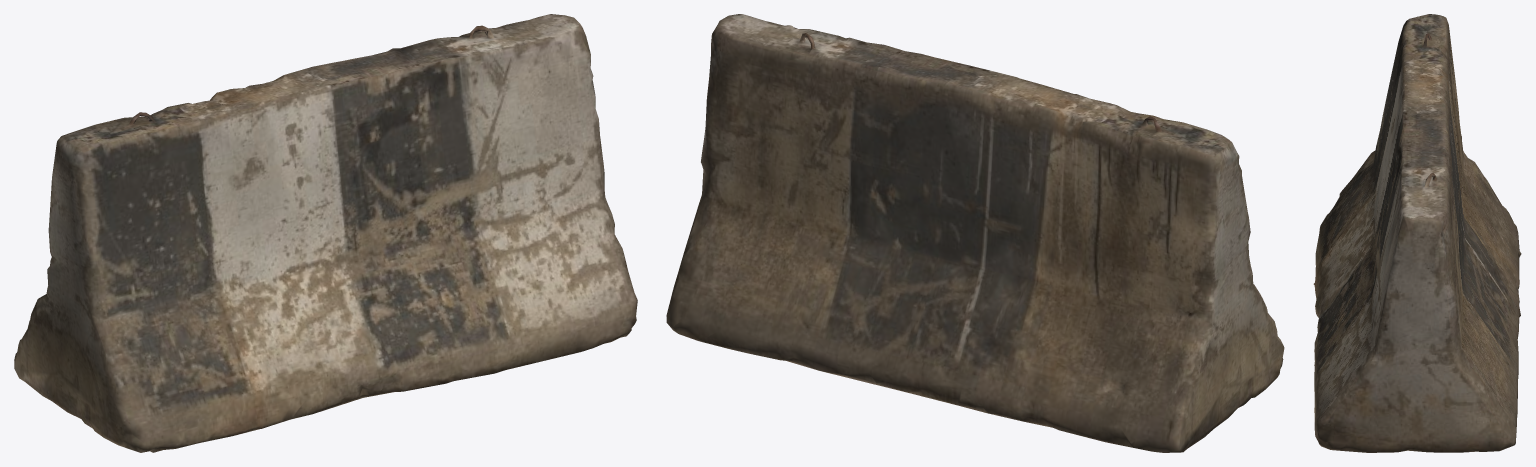
The model's file is concrete_road_barrier_1k.gltf.
3 views of the same model, side by side, from view 1: azimuth 30°, elevation 25°; view 2: azimuth 150°, elevation 25°; view 3: azimuth 270°, elevation 25° (orthographic). The views are drawn at different scales.
Parts seen in each view (by area): view 1: concrete_road_barrier; view 2: concrete_road_barrier; view 3: concrete_road_barrier.
Part boxes in pixels (bbox=[...]): concrete_road_barrier: bbox=[14, 14, 637, 452]; concrete_road_barrier: bbox=[666, 14, 1284, 452]; concrete_road_barrier: bbox=[1313, 14, 1521, 452].
Bounding box in the file's own units: 1.54 × 0.8304 × 0.6387.
1 material, 1 textured.
